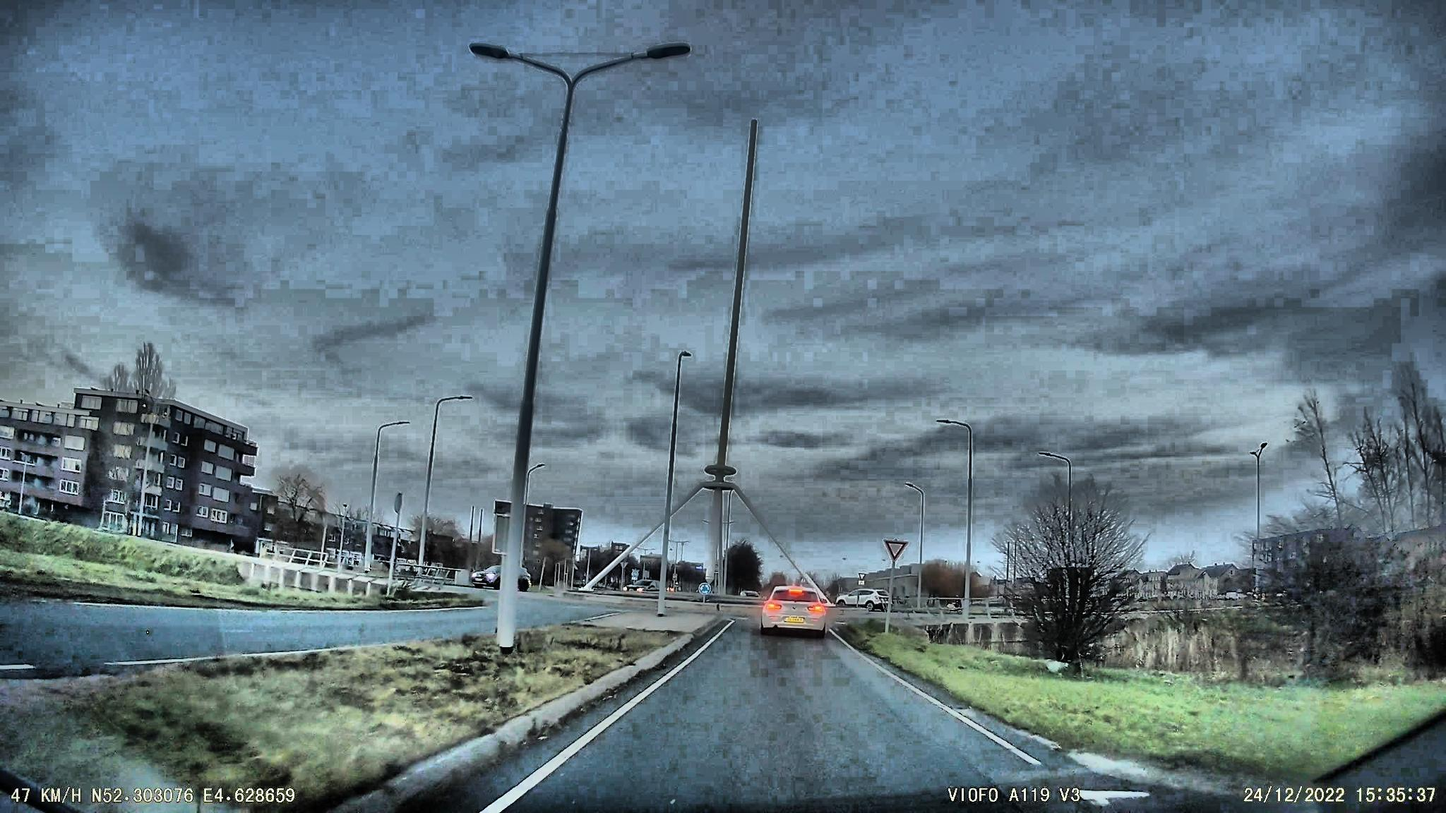Roads: (316, 620, 1446, 813)
